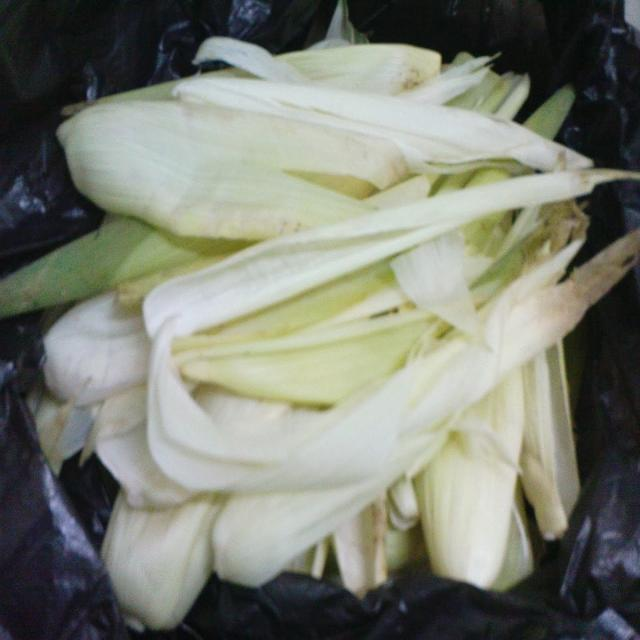Organik: (25, 33, 604, 580)
